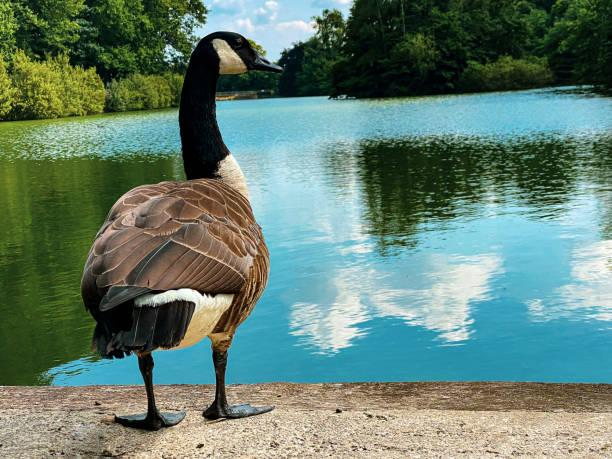Canadian-Goose: (82, 30, 288, 422)
